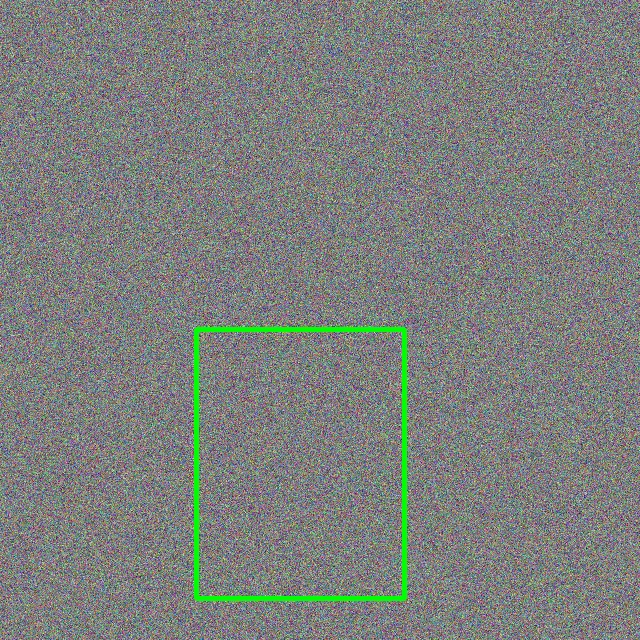base: (196, 329, 404, 598)
